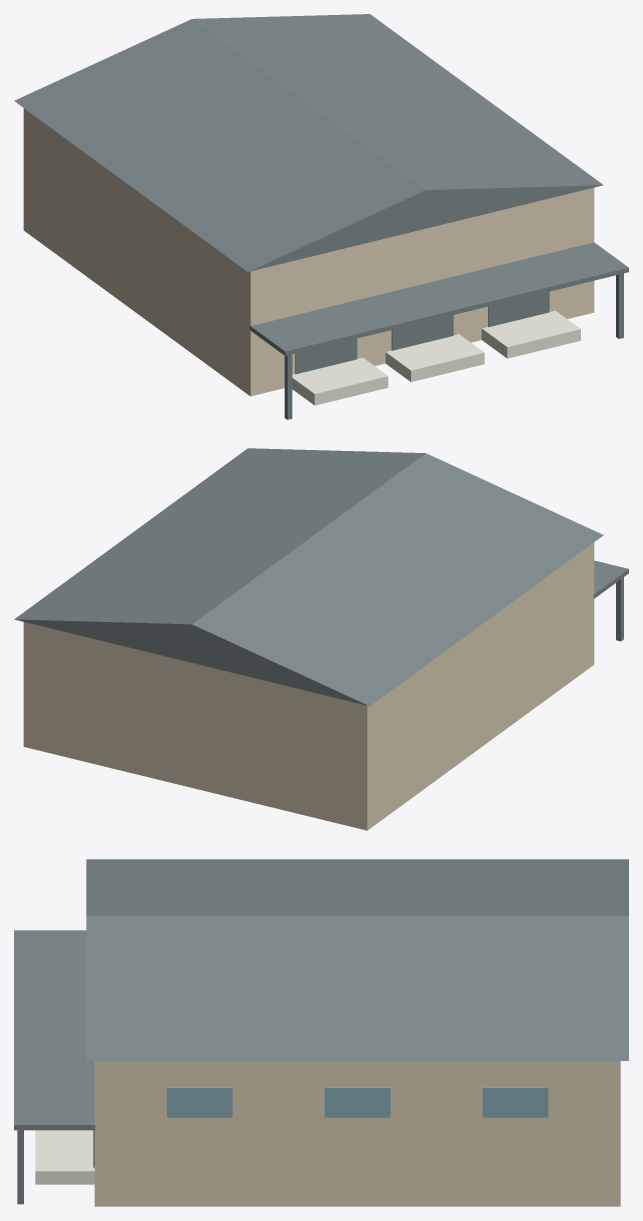
3 renders of one model, top to bottom at view 1: azimuth 30°, elevation 25°; view 2: azimuth 150°, elevation 25°; view 3: azimuth 270°, elevation 25°, orthographic. The views are drawn at different scales.
Bounding box in the file's own units: 29 × 13 × 37.4.
